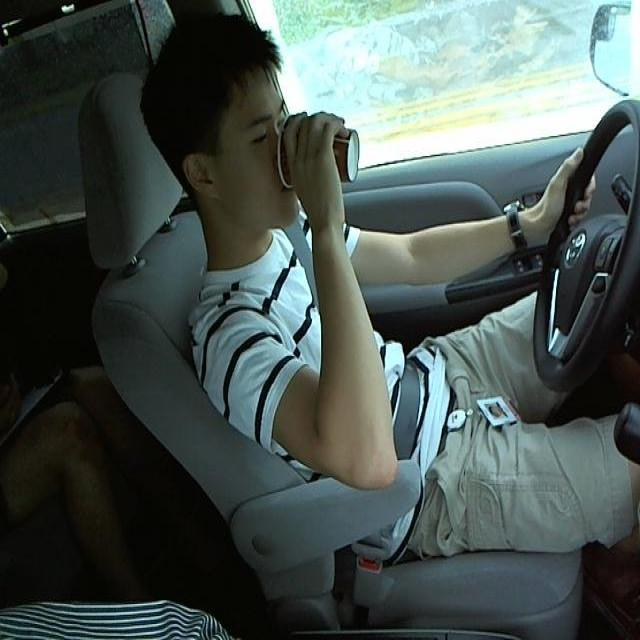drinking: (276, 104, 362, 189)
